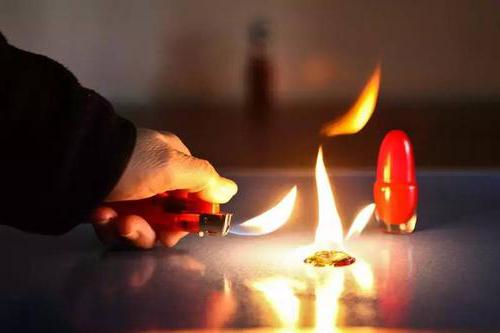fire: (306, 139, 377, 263), (316, 64, 400, 134), (230, 184, 301, 249)
